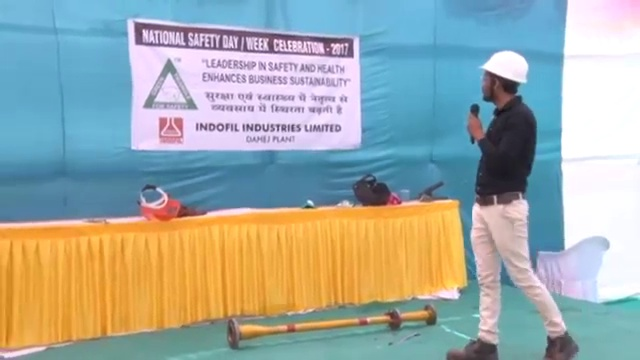helmet: (476, 50, 530, 87)
helmet_on: (475, 49, 531, 104)
person: (448, 50, 581, 360)
